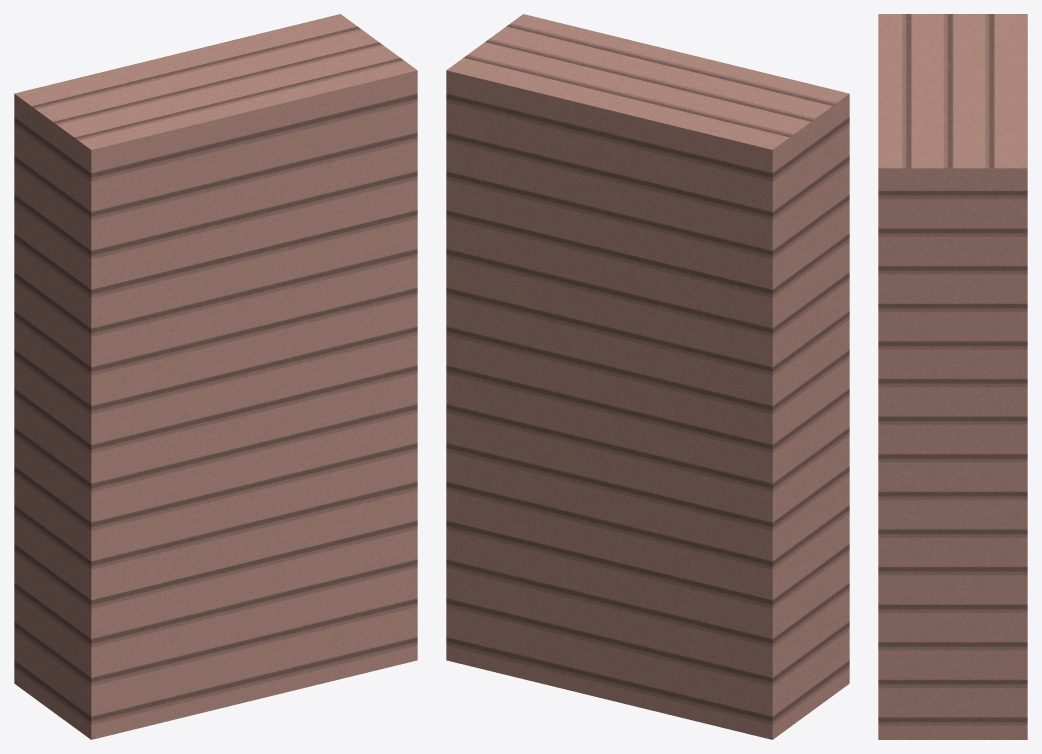
Rendered from china_cabinet_hutch.glb.
3 renders of one model, left to right at view 1: azimuth 30°, elevation 25°; view 2: azimuth 150°, elevation 25°; view 3: azimuth 270°, elevation 25°, orthographic. The views are drawn at different scales.
Visible parts, largest first — view 1: china_cabinet_hutch-col; view 2: china_cabinet_hutch-col; view 3: china_cabinet_hutch-col.
Part boxes in pixels (x1,y1,x2,y2): china_cabinet_hutch-col: (14,14,417,739); china_cabinet_hutch-col: (446,14,849,739); china_cabinet_hutch-col: (878,14,1027,739).
Bounding box in the file's own units: 1.1 × 1.9 × 0.45.
Materials: 1 (1 with a texture image).
